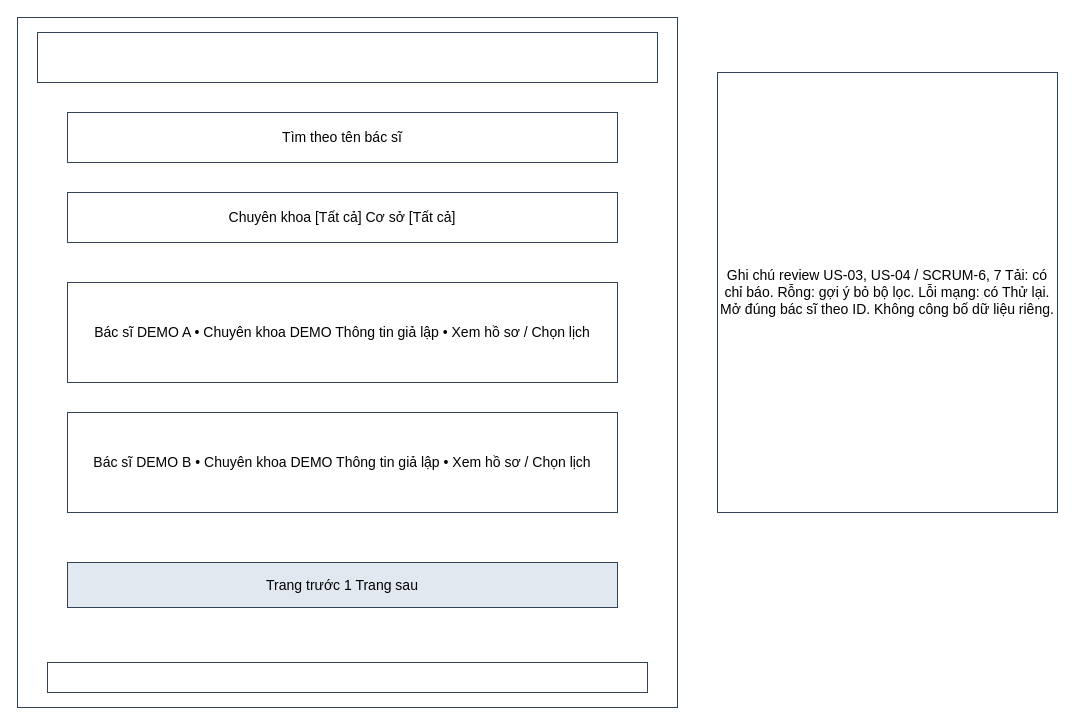
This 1075x725 diagram has some shape labels left out. The shapes that lost their labels are listed below. From the top down, each one's centre as x and y in pixels, then its label:
At (347,57): "MedHealth — Tìm bác sĩ".
At (347,677): "Bản phác tĩnh, không phải màn hình đã lập trình.".
